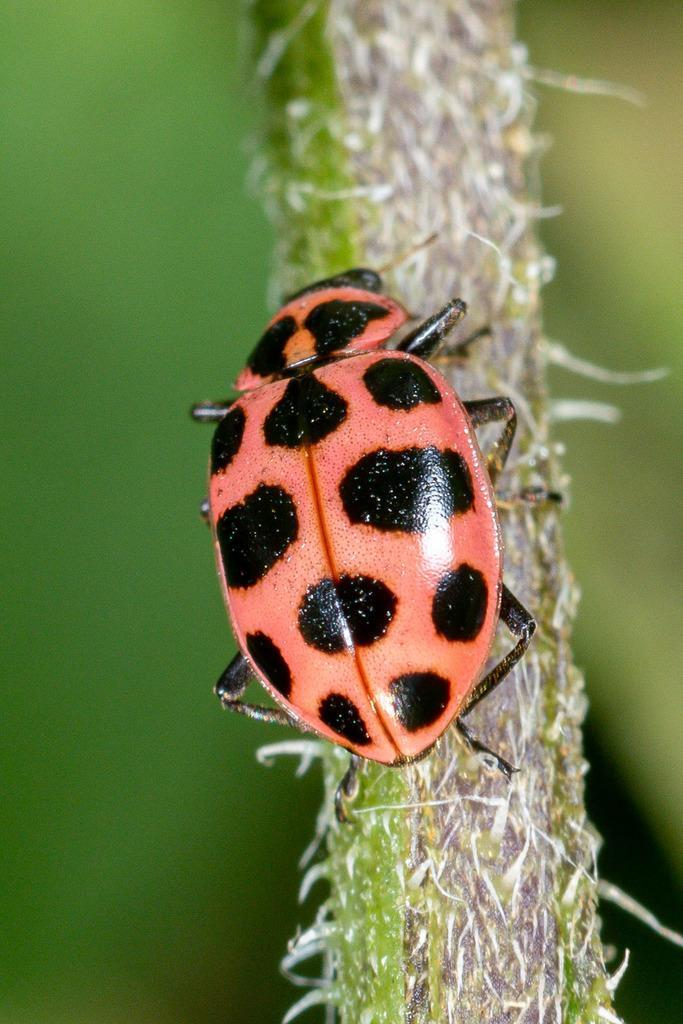ladybug: (186, 229, 566, 829)
